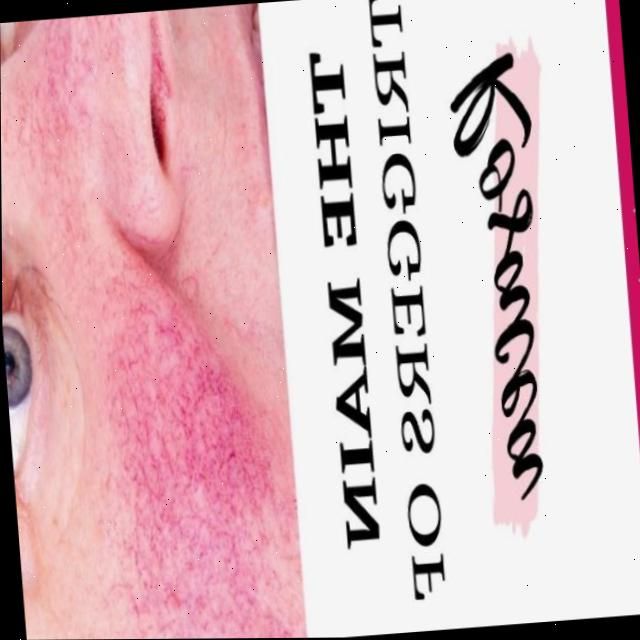Rosacea: (93, 274, 289, 639), (10, 14, 112, 207)
